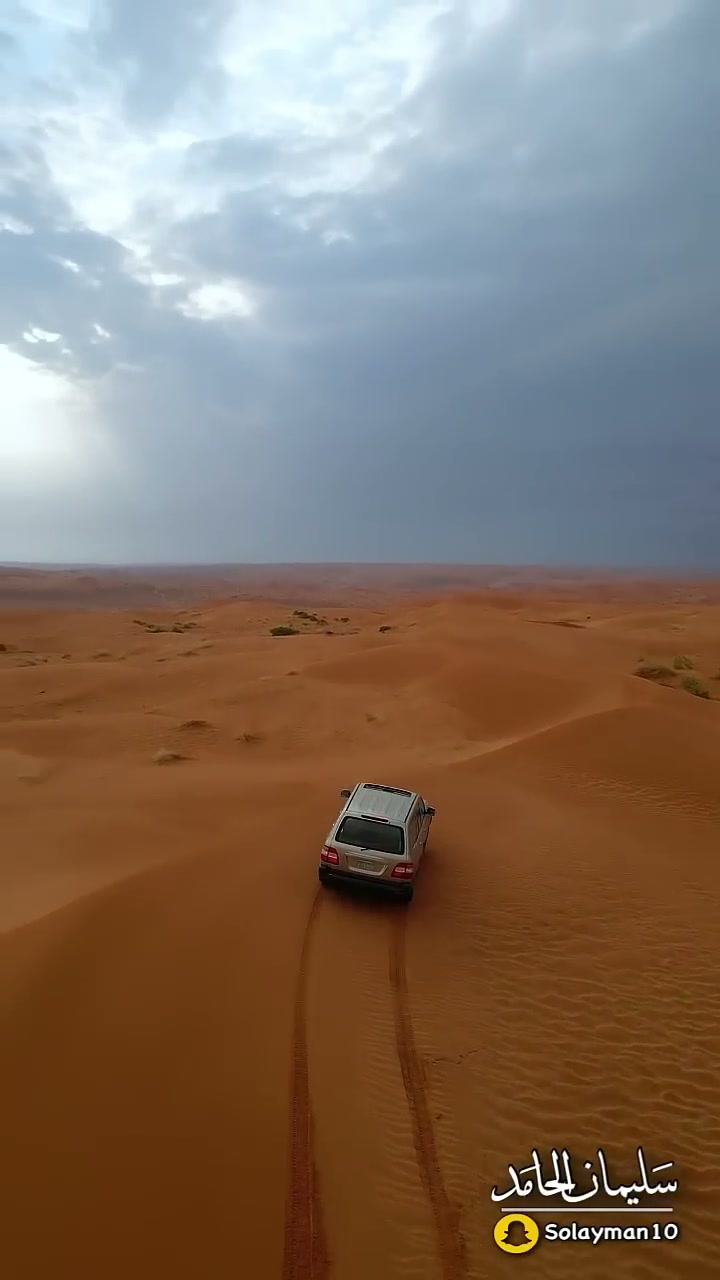vehicle_track: (389, 912, 468, 1279), (282, 891, 329, 1279)
